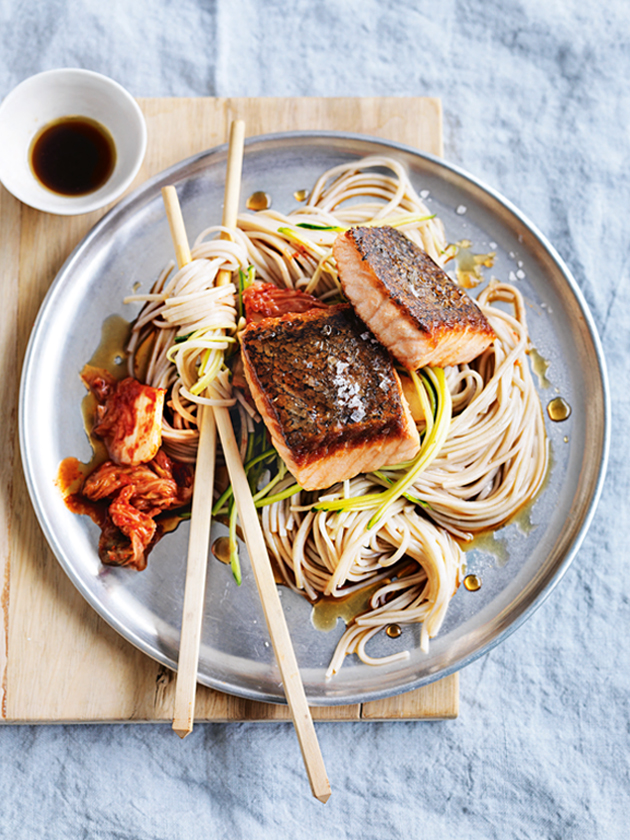Soba: (134, 180, 561, 653)
